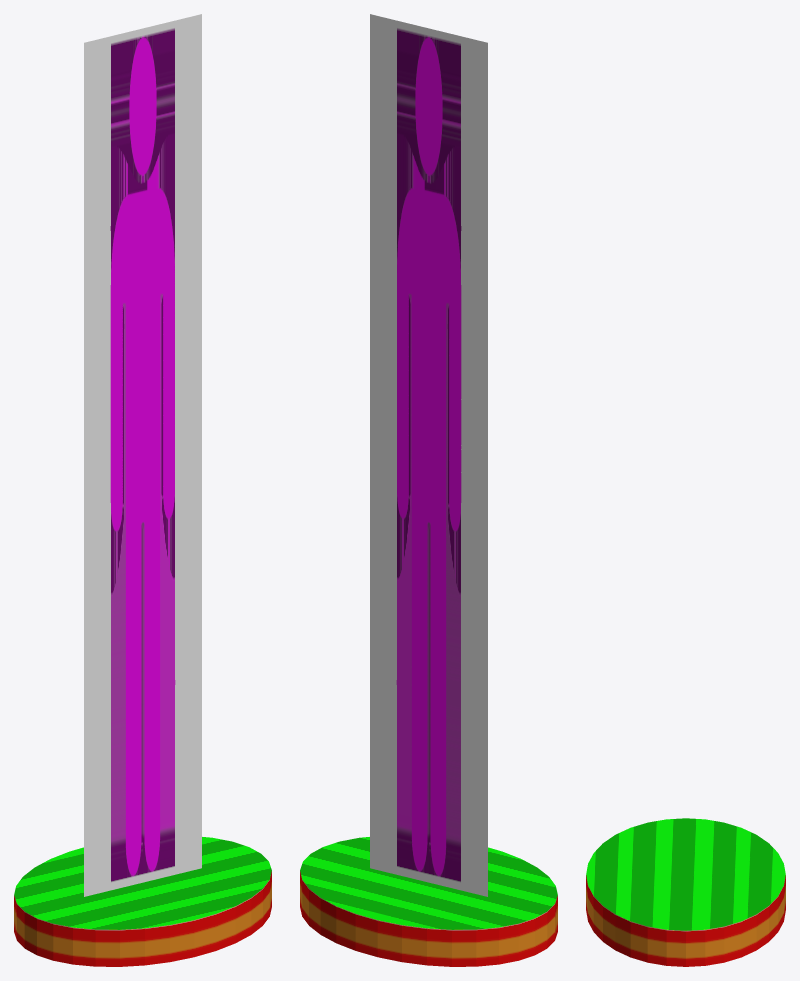
The model's file is MiniCollider.obj.
3 views of the same model, side by side, from view 1: azimuth 30°, elevation 25°; view 2: azimuth 150°, elevation 25°; view 3: azimuth 270°, elevation 25° (orthographic). The views are drawn at different scales.
Parts seen in each view (by area): view 1: 03-Card-Back_CardBack, 02-Card-Front_CardFront, 01-Base_Base; view 2: 03-Card-Back_CardBack, 02-Card-Front_CardFront, 01-Base_Base; view 3: 01-Base_Base.
Boxes of the visible parts, x1,y1,x2,y2 form: 03-Card-Back_CardBack: (84, 14, 201, 896); 02-Card-Front_CardFront: (110, 37, 174, 875); 01-Base_Base: (14, 837, 271, 966); 03-Card-Back_CardBack: (370, 14, 487, 896); 02-Card-Front_CardFront: (397, 37, 461, 875); 01-Base_Base: (300, 837, 557, 966); 01-Base_Base: (586, 818, 785, 966).
Bounding box in the file's own units: 0.4 × 1.44 × 0.3.
2 materials, 2 textured.
